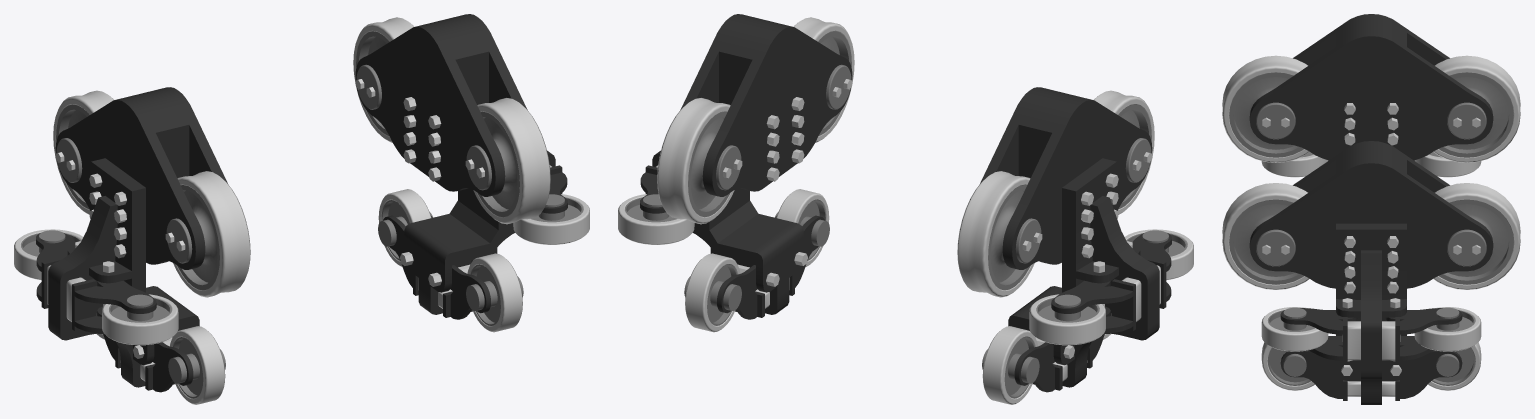
Rendered from LSM_WheelAssembly.glb.
3 views of the same model, side by side, from view 1: azimuth 30°, elevation 25°; view 2: azimuth 150°, elevation 25°; view 3: azimuth 270°, elevation 25° (orthographic). The views are drawn at different scales.
Visible parts, largest first — view 1: LSM_Back_FWheel; view 2: LSM_Back_FWheel; view 3: LSM_Back_FWheel.
Part boxes in pixels (x1,y1,x2,y2): LSM_Back_FWheel: (14, 14, 589, 404); LSM_Back_FWheel: (618, 14, 1193, 404); LSM_Back_FWheel: (1222, 14, 1520, 404).
Size of the model in its own units: 2.08 by 1.13 by 1.25.
Materials: 1 (1 with a texture image).
